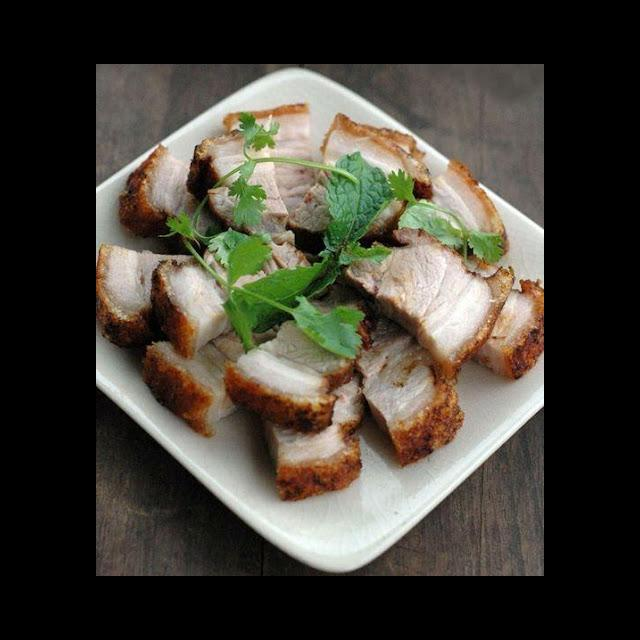thit heo quay: (329, 222, 519, 389), (216, 280, 388, 438), (339, 291, 471, 471), (281, 109, 438, 258), (145, 229, 318, 363), (136, 308, 299, 439), (253, 359, 371, 506), (386, 156, 515, 277), (181, 126, 301, 251), (114, 138, 236, 251), (217, 99, 326, 225), (97, 240, 216, 352), (452, 258, 544, 384)
